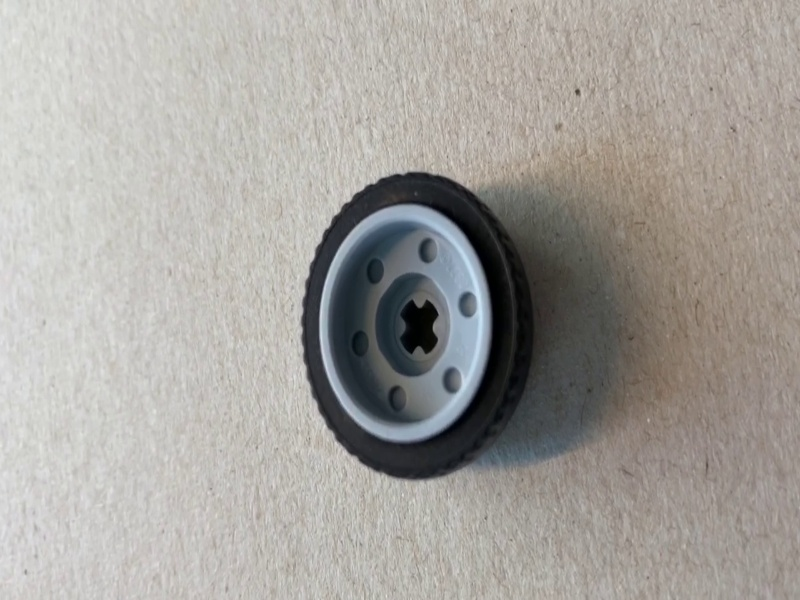tire: (301, 172, 542, 484)
